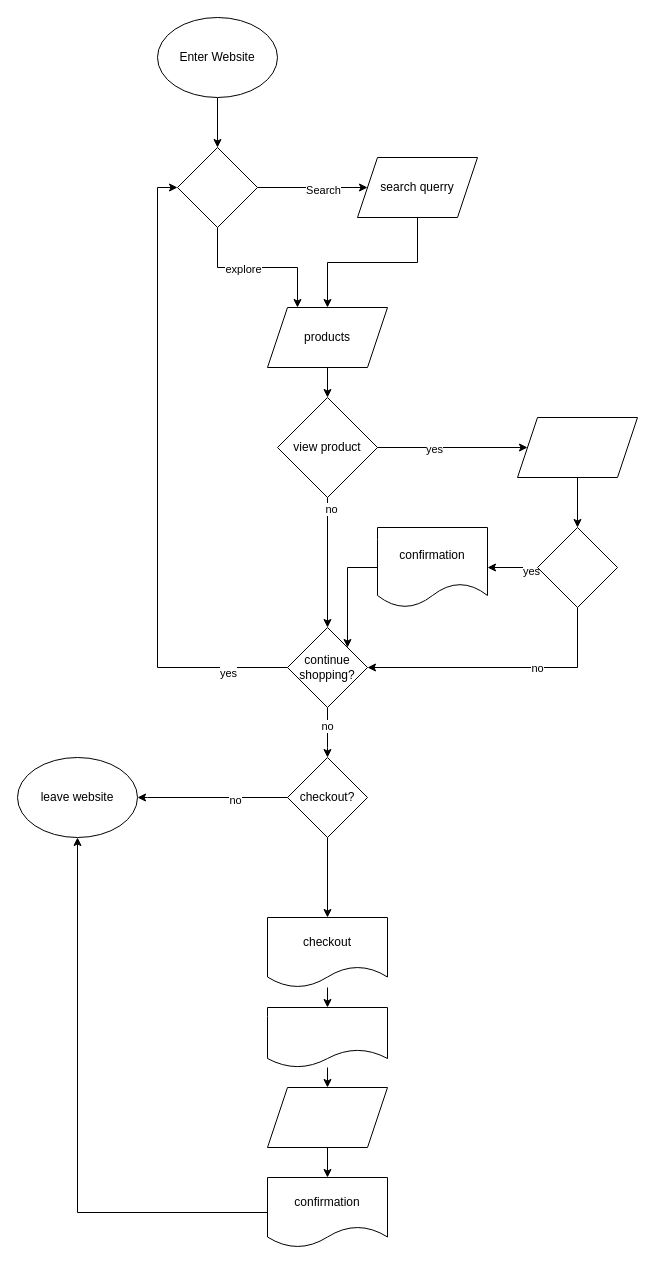
This 655x1265 diagram has some shape labels left out. The centre of each missing label's shape, as x and y in pixels:
add to kart: point 577,567
input payrment information: point 327,1117
payment: point 327,1037
search or explore: point 217,187
show product page: point 577,447
